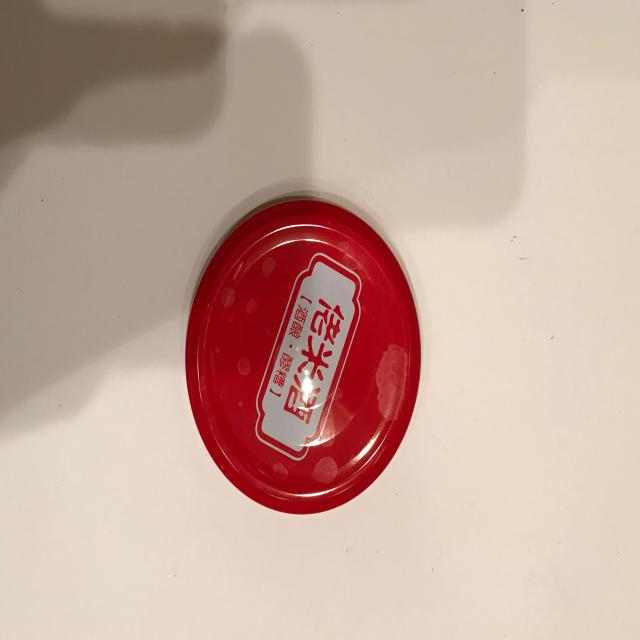metal: (184, 190, 422, 515)
